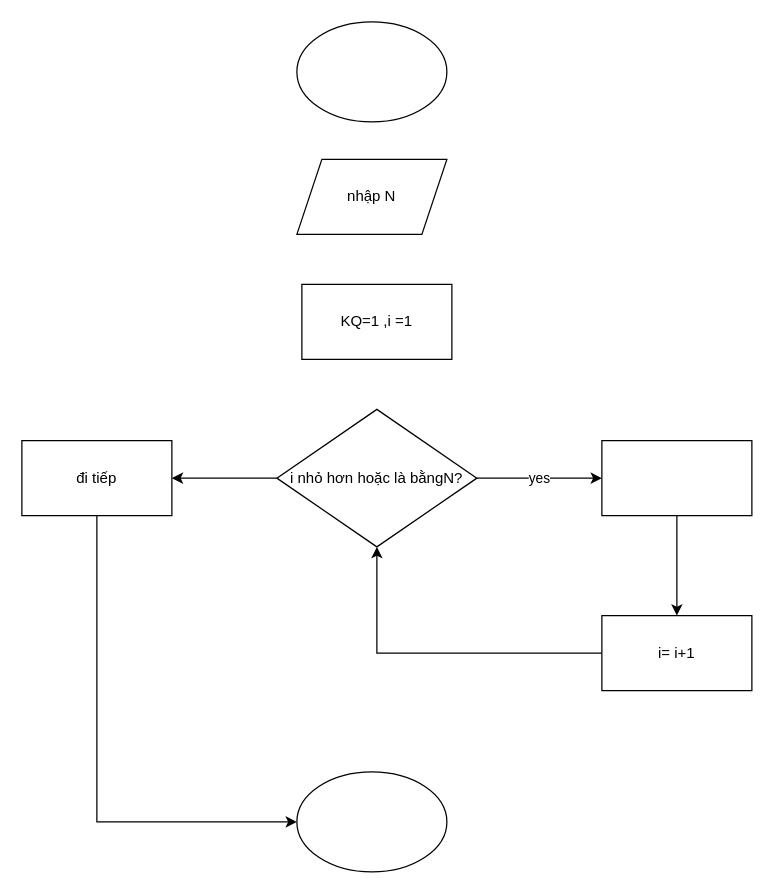
This 774x894 diagram has some shape labels left out. The shapes that lost their labels are listed below. From the top down, each one's centre as x and y in pixels, then its label:
At (371,71): "start".
At (676,477): "KQ=KQ x i".
At (371,821): "end".
